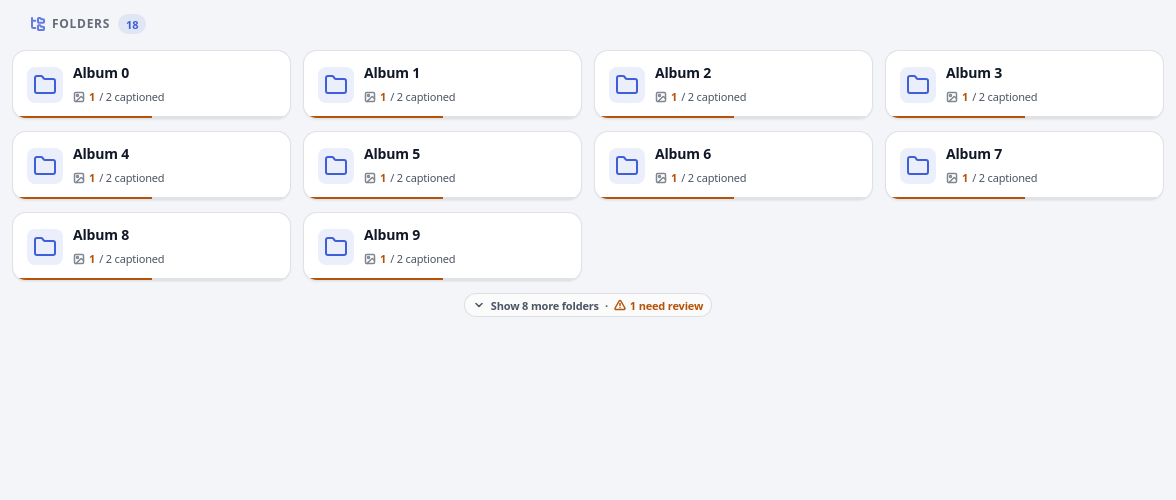
Scenario: FolderGrid clamping › drops the badge once the hidden folders are on screen
The image size is (1176, 500).
Click the button "Show 8 more folders 1 need review" at (588, 305), box [464,293,712,317]
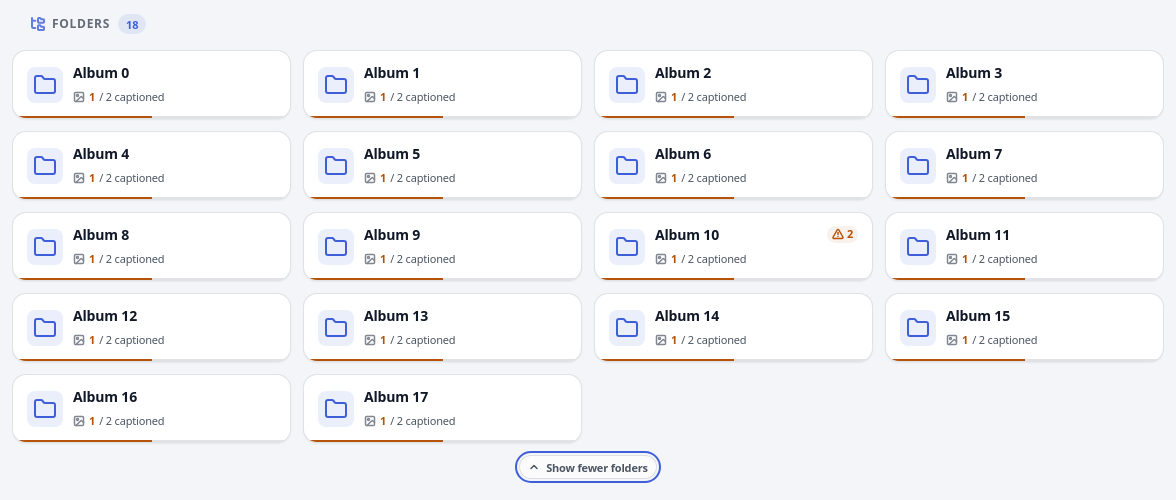
Result: the element with class "folder-more__findings" is gone
